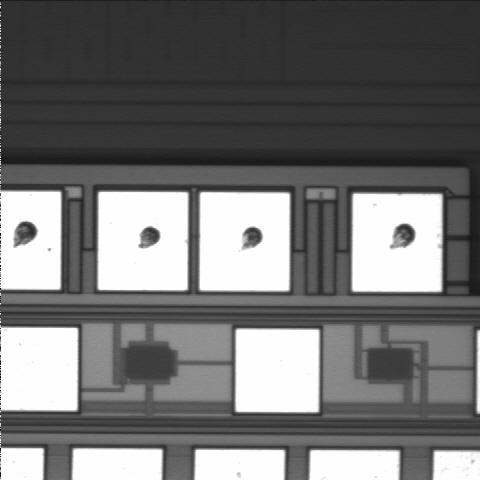pad: (200, 192, 290, 291), (98, 192, 188, 290), (352, 194, 442, 292), (236, 329, 319, 412)
